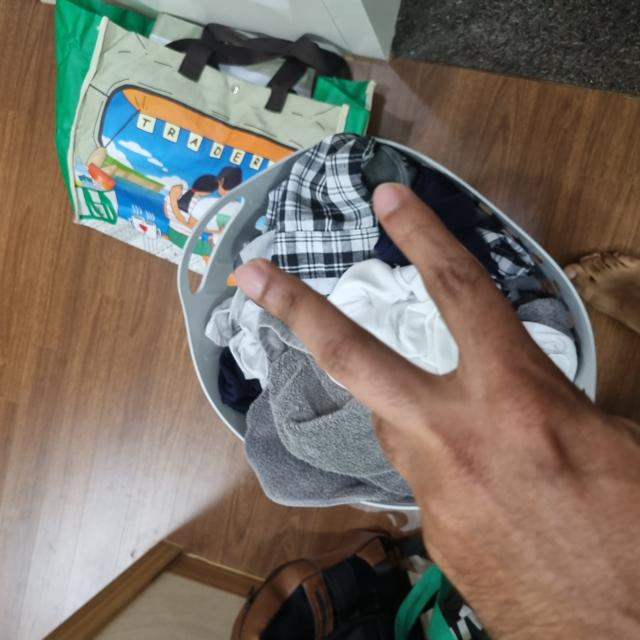Scissors: (0, 236, 457, 639)
